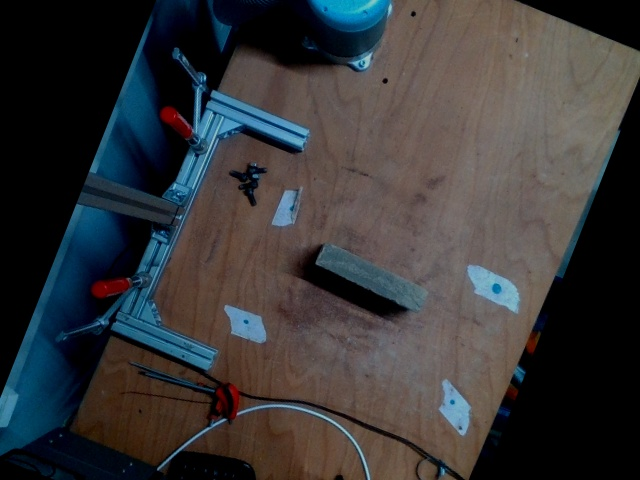brick-side: (315, 241, 425, 313)
